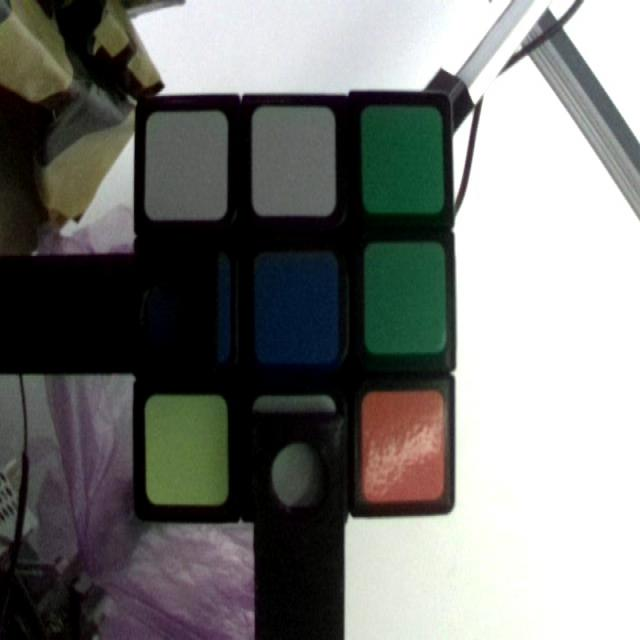b: (148, 255, 231, 368), (254, 255, 338, 362)
g: (365, 244, 445, 351), (364, 112, 444, 210)
o: (364, 395, 440, 499)
w: (252, 399, 335, 516), (255, 106, 338, 214), (148, 112, 230, 214)
y: (146, 399, 226, 503)
